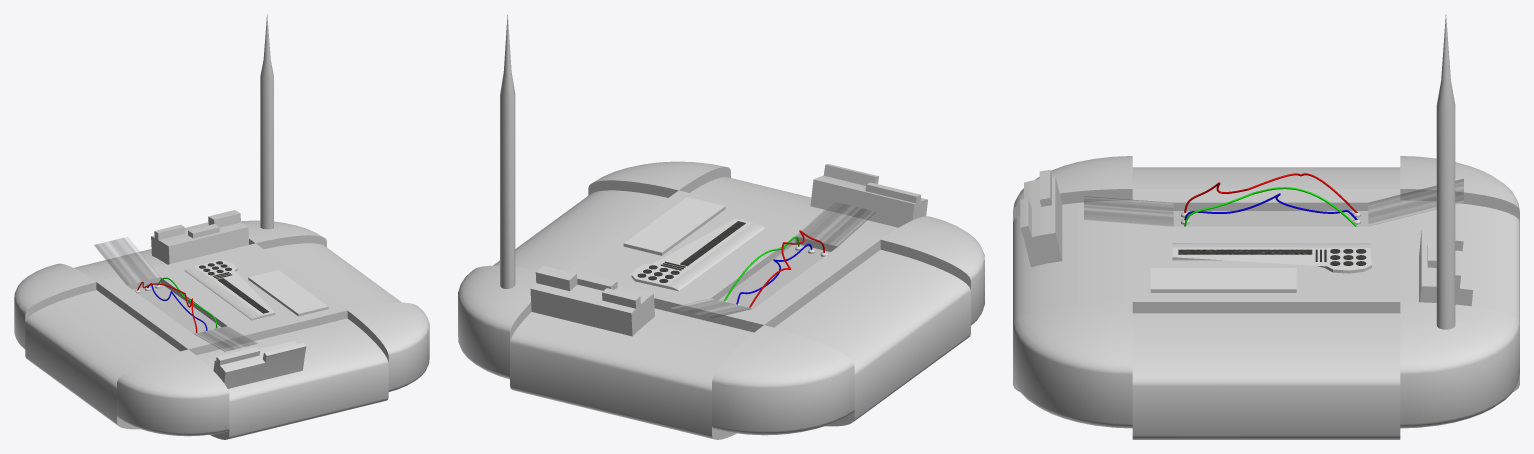
The model's file is Bomb1.fbx.
3 renders of one model, left to right at view 1: azimuth 30°, elevation 25°; view 2: azimuth 150°, elevation 25°; view 3: azimuth 270°, elevation 25°, orthographic. The views are drawn at different scales.
Visible parts, largest first — view 1: Cube, Cube.003, Cube.005, Cube.001, Cube.004, Cube.002; view 2: Cube, Cube.003, Cube.001, Cube.005, Cube.004, Cube.002; view 3: Cube, Cube.003, Cube.001, Cube.005, Cube.004, Cube.002, NurbsPath.002, NurbsPath.
Boxes of the visible parts, x1=… form: Cube: x1=14, y1=14, x2=429, y2=439; Cube.003: x1=94, y1=237, x2=257, y2=351; Cube.005: x1=133, y1=283, x2=221, y2=333; Cube.001: x1=249, y1=270, x2=327, y2=313; Cube.004: x1=194, y1=260, x2=274, y2=315; Cube.002: x1=199, y1=261, x2=268, y2=313; Cube: x1=458, y1=14, x2=984, y2=439; Cube.003: x1=670, y1=201, x2=875, y2=318; Cube.001: x1=624, y1=197, x2=724, y2=252; Cube.005: x1=718, y1=244, x2=830, y2=308; Cube.004: x1=632, y1=218, x2=752, y2=285; Cube.002: x1=637, y1=221, x2=745, y2=282; Cube: x1=1013, y1=14, x2=1519, y2=439; Cube.003: x1=1084, y1=178, x2=1463, y2=226; Cube.001: x1=1150, y1=268, x2=1296, y2=289; Cube.005: x1=1173, y1=211, x2=1368, y2=226; Cube.004: x1=1172, y1=247, x2=1371, y2=270; Cube.002: x1=1178, y1=249, x2=1366, y2=265; NurbsPath.002: x1=1184, y1=173, x2=1357, y2=212; NurbsPath: x1=1184, y1=187, x2=1357, y2=226.
Size of the model in its own units: 200 by 184 by 200.
